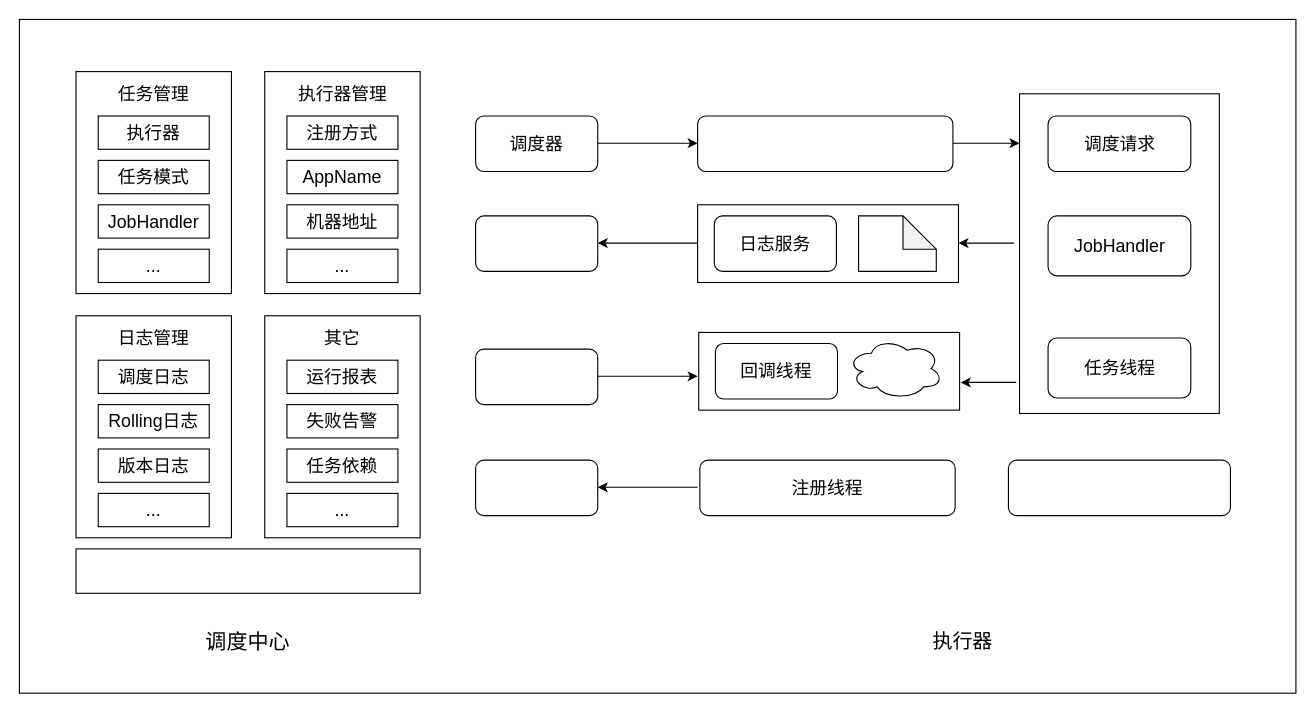
This 1315x713 diagram has some shape labels left out. Here are the shapes that lost their labels. From the top down, the centre of each, then its label:
the point at 825,143: 执行器服务
the point at 536,243: 日志
the point at 896,243: 日志文件
the point at 536,376: 回调服务
the point at 894,368: 调度结果
the point at 536,487: 注册服务
the point at 1118,487: 自研RPC
the point at 247,570: 数据中心
